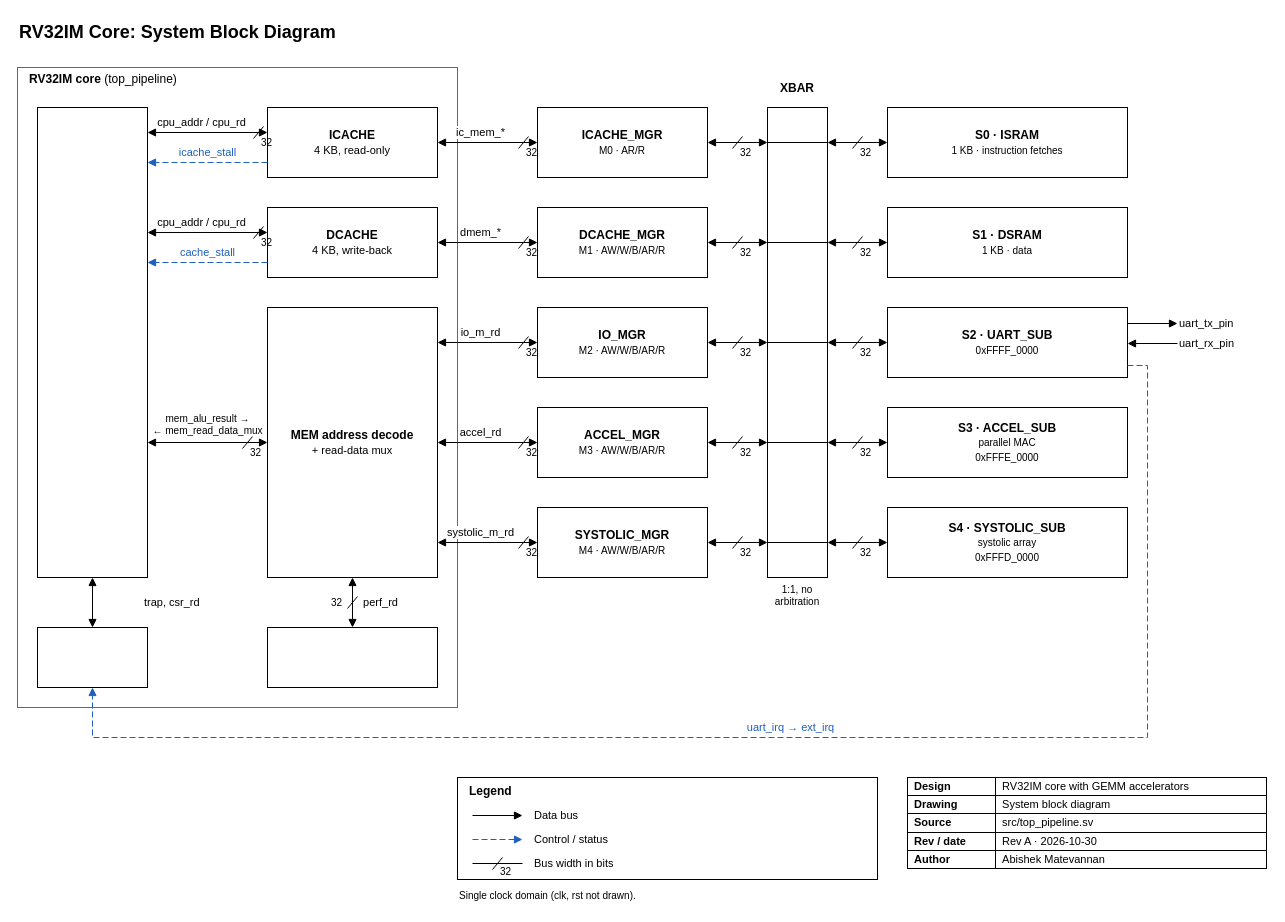
Some shapes in this 1285 by 922 pixel diagram are drawn without their labels. The shapes that lost their labels are listed below. From the top down, each one's centre as x and y in pixels, then its label:
pixel 92 342: 5-stage pipeline IF → ID → EX → MEM → WB
pixel 92 657: CSRS + EU traps, CSRs
pixel 352 657: PMU 0xFFFF_2000
